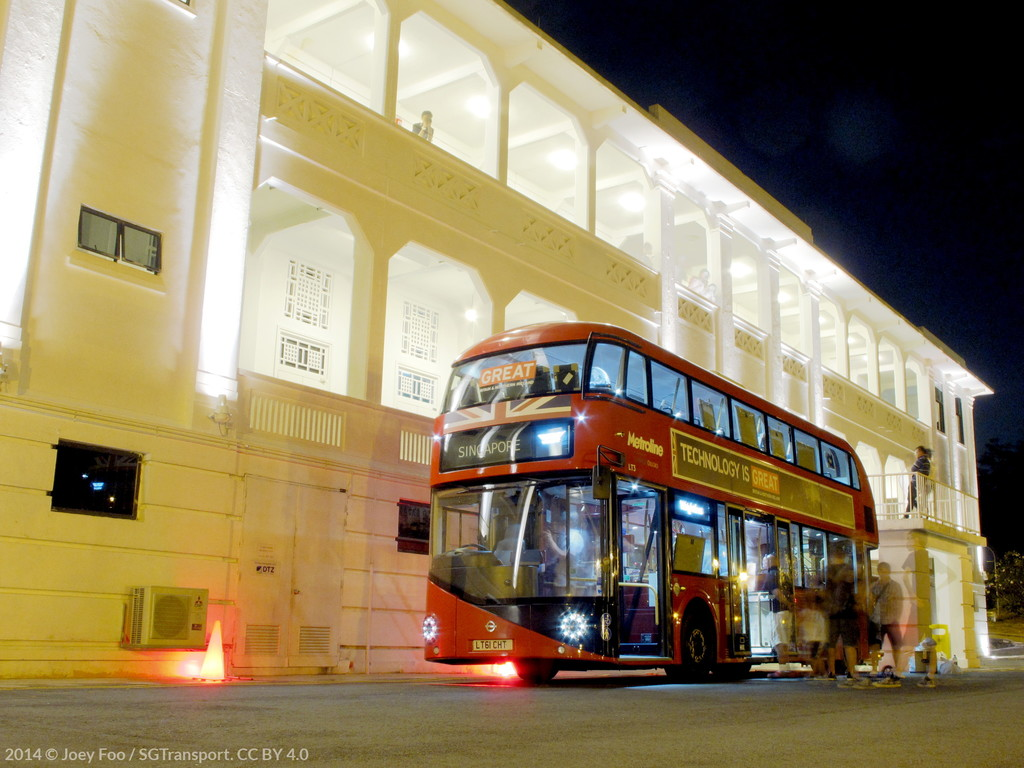Bus: (420, 318, 880, 679)
